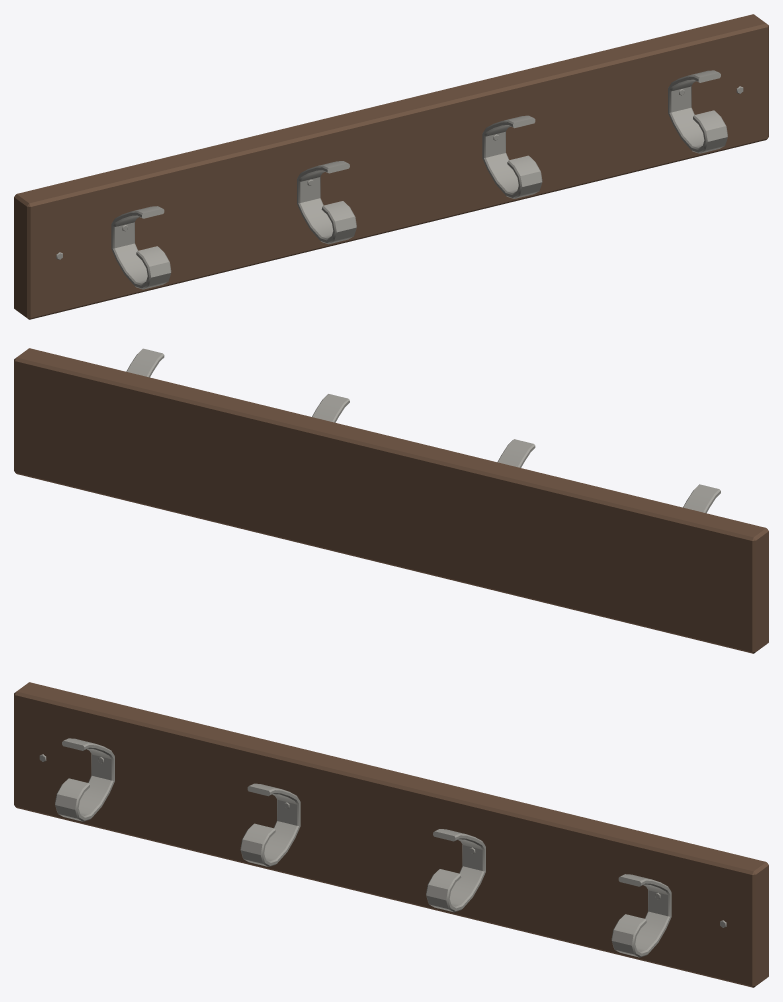
Rendered from coat-hook-rail-3a388120f87c.glb.
3 views of the same model, one above another, from view 1: azimuth 30°, elevation 25°; view 2: azimuth 150°, elevation 25°; view 3: azimuth 330°, elevation 25° (orthographic).
Visible parts, largest first — view 1: wood, brushed; view 2: wood, brushed; view 3: wood, brushed.
Part boxes in pixels (x1=…): wood: x1=14, y1=14, x2=768, y2=319; brushed: x1=56, y1=70, x2=743, y2=289; wood: x1=14, y1=348, x2=768, y2=653; brushed: x1=126, y1=348, x2=720, y2=513; wood: x1=14, y1=682, x2=768, y2=987; brushed: x1=39, y1=738, x2=726, y2=957.
Bounding box in the file's own units: 0.6 × 0.09 × 0.0781.
